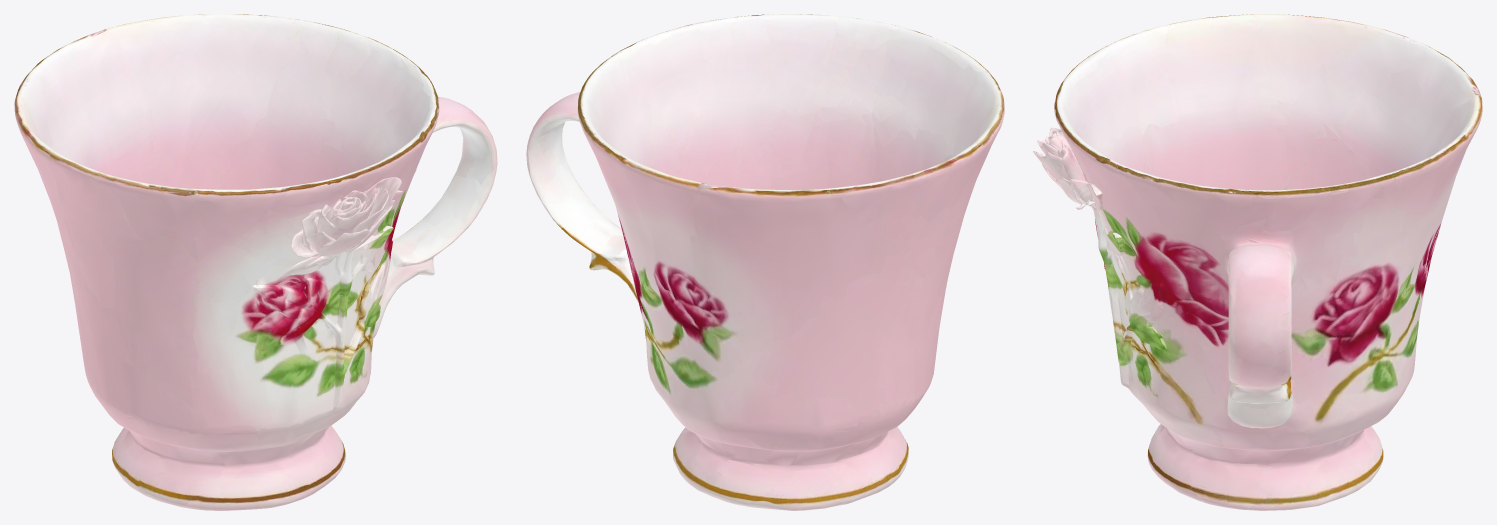
The model's file is kitchen-teacup-02.glb.
3 renders of one model, left to right at view 1: azimuth 30°, elevation 25°; view 2: azimuth 150°, elevation 25°; view 3: azimuth 270°, elevation 25°, orthographic.
Size of the model in its own units: 1.9 by 1.48 by 1.67.
Materials: 1 (1 with a texture image).
